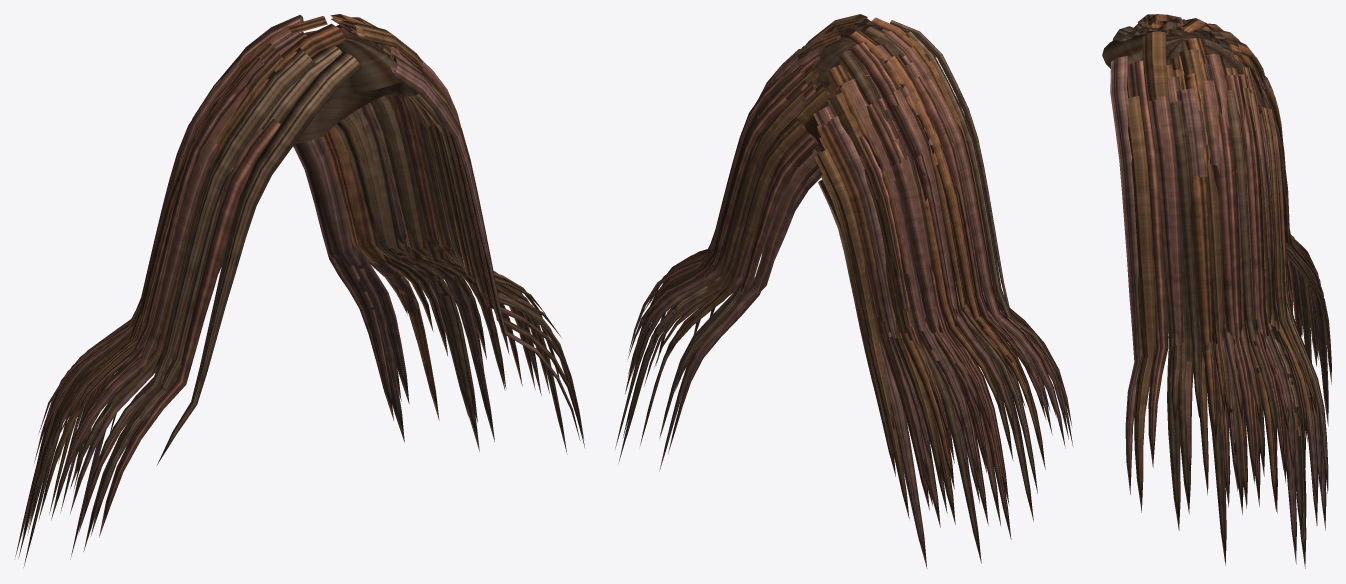
File: longo.glb
3 renders of one model, left to right at view 1: azimuth 30°, elevation 25°; view 2: azimuth 150°, elevation 25°; view 3: azimuth 270°, elevation 25°, orthographic. The views are drawn at different scales.
Visible parts, largest first — view 1: cabelo_longo; view 2: cabelo_longo; view 3: cabelo_longo.
Boxes of the visible parts, x1=… form: cabelo_longo: x1=14, y1=14, x2=585, y2=567; cabelo_longo: x1=615, y1=14, x2=1073, y2=568; cabelo_longo: x1=1102, y1=14, x2=1331, y2=568.
Bounding box in the file's own units: 0.559 × 0.5708 × 0.2508.
1 material, 1 textured.
